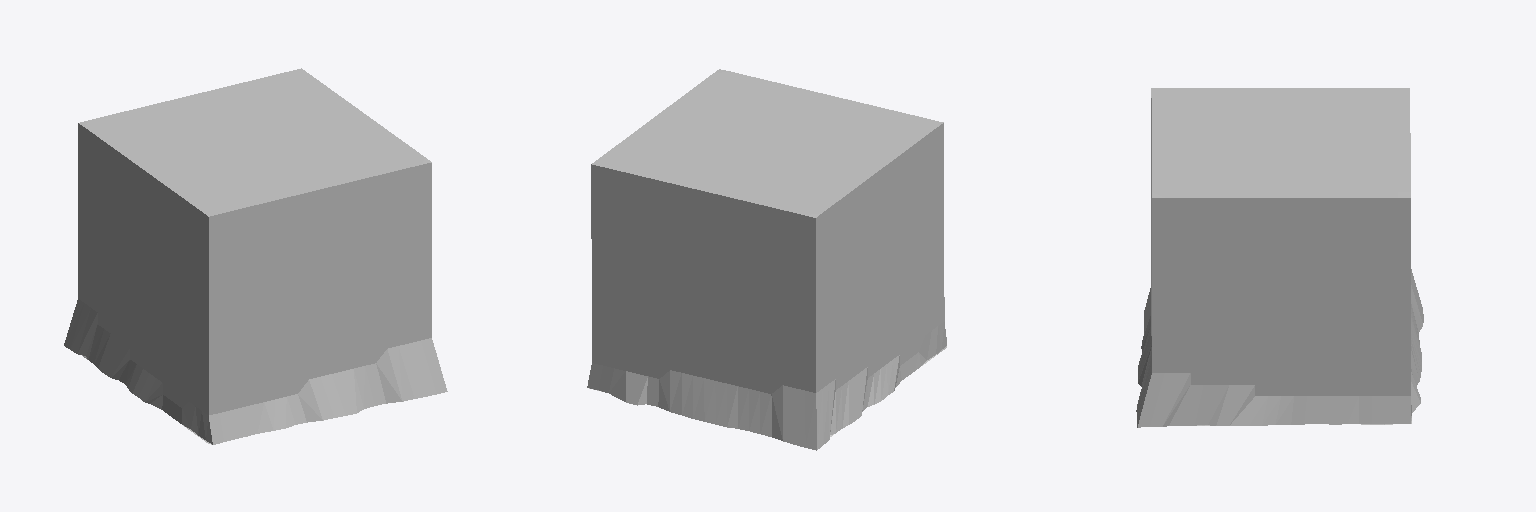
File: mod0204.obj
The picture shows the model from 3 angles: view 1: azimuth 30°, elevation 25°; view 2: azimuth 150°, elevation 25°; view 3: azimuth 270°, elevation 25°; orthographic projection.
Visible parts, largest first — view 1: Box001; view 2: Box001; view 3: Box001.
Part boxes in pixels (bbox=[...]): Box001: bbox=[64, 68, 447, 444]; Box001: bbox=[587, 69, 946, 450]; Box001: bbox=[1136, 88, 1423, 427].
Size of the model in its own units: 0.5799 by 0.5221 by 0.5979.